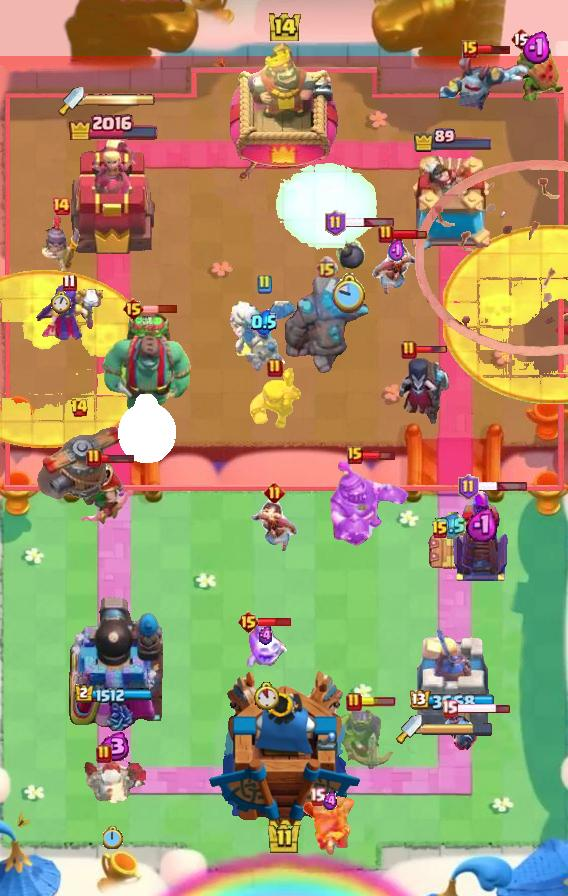arrows: (248, 367, 303, 428)
axe: (35, 282, 103, 344)
bar: (70, 138, 158, 256), (414, 623, 492, 731)
barbarian-hut: (329, 706, 401, 772)
cannoneer-tower: (281, 275, 371, 377)
dark-prince: (32, 418, 126, 500)
electro-spirit: (467, 506, 498, 542), (95, 731, 131, 760), (523, 31, 553, 65), (434, 512, 465, 540), (251, 309, 277, 335), (387, 238, 405, 264), (257, 626, 275, 645), (323, 791, 337, 811)
elixir: (117, 394, 177, 464), (333, 273, 367, 313), (254, 682, 279, 710), (103, 826, 123, 850), (51, 291, 71, 314)
elixir-golem-small: (435, 54, 531, 124)
emote: (457, 702, 512, 715), (343, 217, 395, 228), (476, 481, 528, 492), (360, 450, 396, 463), (392, 228, 428, 240), (100, 452, 135, 464), (258, 616, 293, 628), (476, 45, 512, 56), (142, 304, 178, 314), (360, 697, 396, 707), (414, 345, 448, 355)
goblin-barrel: (508, 36, 566, 106), (301, 794, 359, 856)
goblin-brawler: (425, 529, 475, 575)
ice-golem: (332, 219, 368, 275)
ice-spirit-evolution-symbol: (450, 487, 512, 583)
king-tower: (207, 669, 361, 826), (230, 43, 338, 181)
king-tower-bar: (84, 93, 156, 107), (422, 722, 494, 736)
lava-hound: (100, 306, 194, 416)
mega-knight: (274, 161, 380, 255)
mini-pekka: (227, 298, 301, 374), (80, 759, 146, 803)
mirror: (245, 620, 287, 670)
phoenix-egg: (0, 271, 156, 450), (444, 224, 568, 403)
princess: (40, 216, 82, 274)
queen-tower: (407, 156, 499, 256)
rascal-boy: (394, 355, 452, 427)
royal-delivery: (441, 712, 479, 752)
royal-guardian: (329, 456, 409, 548)
selected: (68, 112, 160, 140), (414, 127, 495, 153), (411, 690, 498, 712), (74, 684, 154, 704)
skeleton-barrel: (414, 0, 568, 358)
skeleton-dragon: (370, 238, 422, 296), (248, 495, 300, 553)
skeleton-king: (75, 460, 137, 528)
text: (315, 256, 338, 280), (122, 297, 145, 321), (237, 610, 260, 634), (325, 210, 346, 236), (458, 474, 479, 500), (510, 27, 532, 51), (263, 481, 284, 503), (51, 196, 71, 216), (70, 398, 90, 418), (431, 520, 449, 540), (309, 787, 327, 805), (441, 699, 458, 718), (378, 224, 394, 244), (256, 274, 272, 294), (401, 340, 417, 360), (267, 358, 283, 378), (86, 448, 102, 468), (346, 692, 362, 712), (96, 744, 112, 764), (462, 40, 478, 58), (347, 446, 363, 464), (62, 273, 77, 291)
tower-bar: (65, 593, 163, 731)
